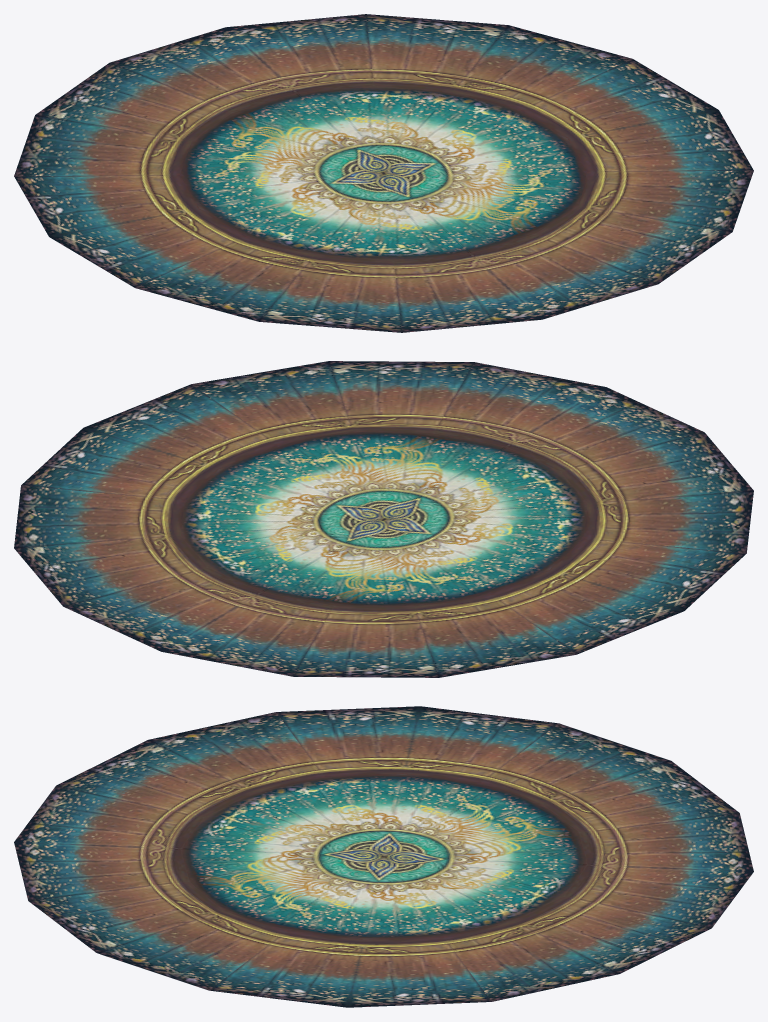
File: S2_Build_XSC049_1.FBX
3 views of the same model, one above another, from view 1: azimuth 30°, elevation 25°; view 2: azimuth 150°, elevation 25°; view 3: azimuth 270°, elevation 25° (orthographic). The views are drawn at different scales.
Parts seen in each view (by area): view 1: S2_Build_XSC049_1; view 2: S2_Build_XSC049_1; view 3: S2_Build_XSC049_1.
Part boxes in pixels (x1,y1,x2,y2): S2_Build_XSC049_1: [14, 14, 753, 332]; S2_Build_XSC049_1: [14, 361, 753, 677]; S2_Build_XSC049_1: [14, 706, 753, 1007].
Size of the model in its own units: 6460 by 6700 by 0.6593.
